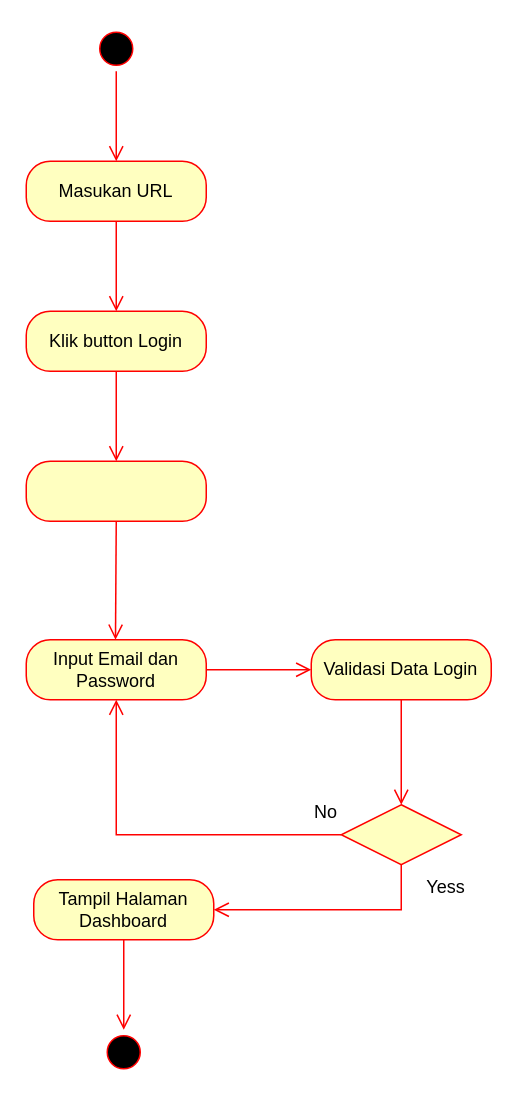
This 518x1101 diagram has some shape labels left out. Here are the shapes that lost their labels. From the top down, the box of each, then its label:
(25, 460, 206, 521): Tampil Halaman Login
(340, 803, 461, 865): Berhasil
